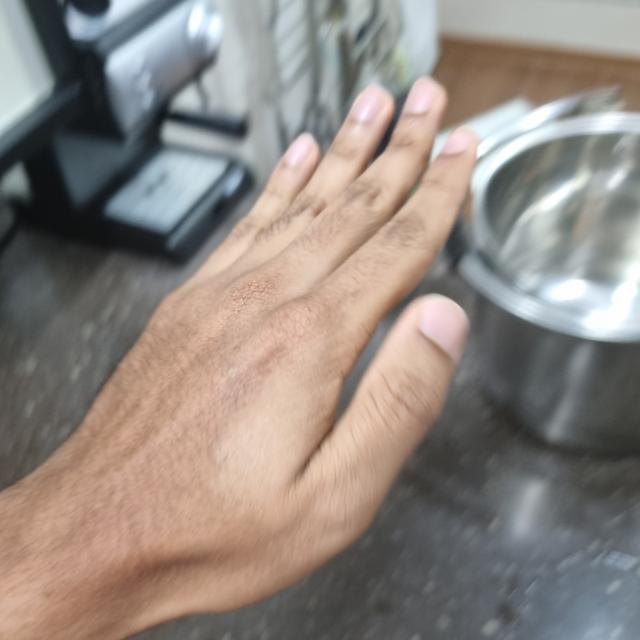Paper: (58, 85, 475, 614)
